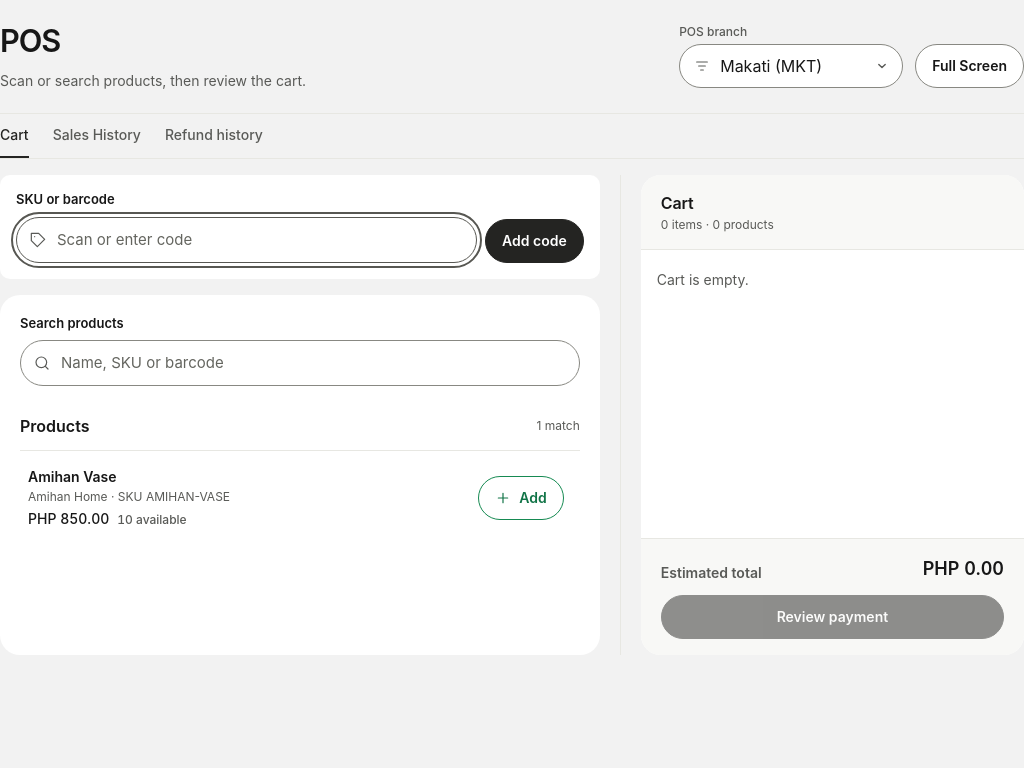
Test: Persistent route-backed POS workspace › locks History during a pending checkout and retains the original request
Click the button "Add".
click(521, 498)  # box [478,476,564,520]
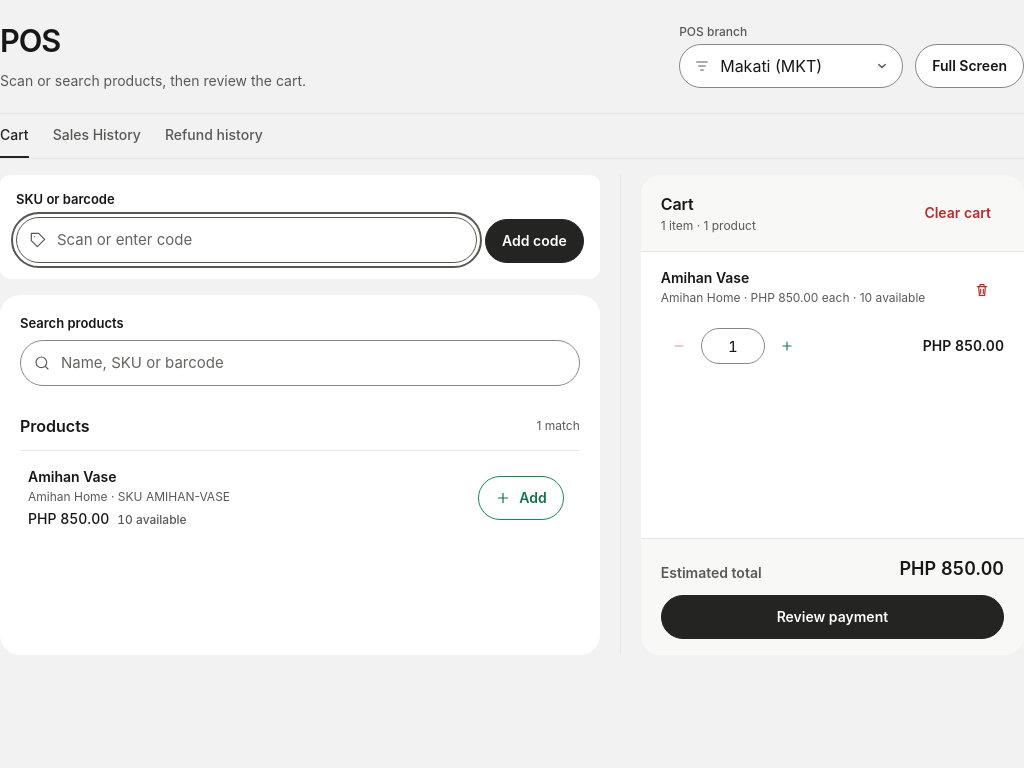
Click the button "Review payment".
click(832, 617)  # box [661,595,1004,639]
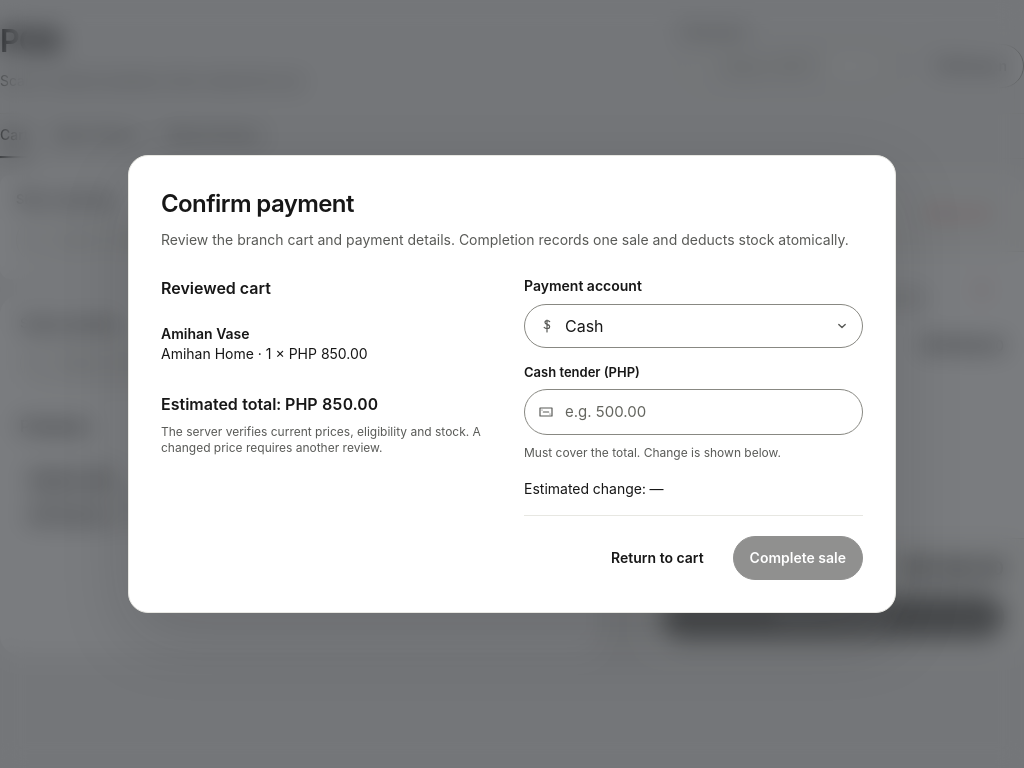
Type "1000.00" into the field labelled "Cash tender (PHP)".
click(694, 412); type("1000.00")  # box [524,389,863,435]
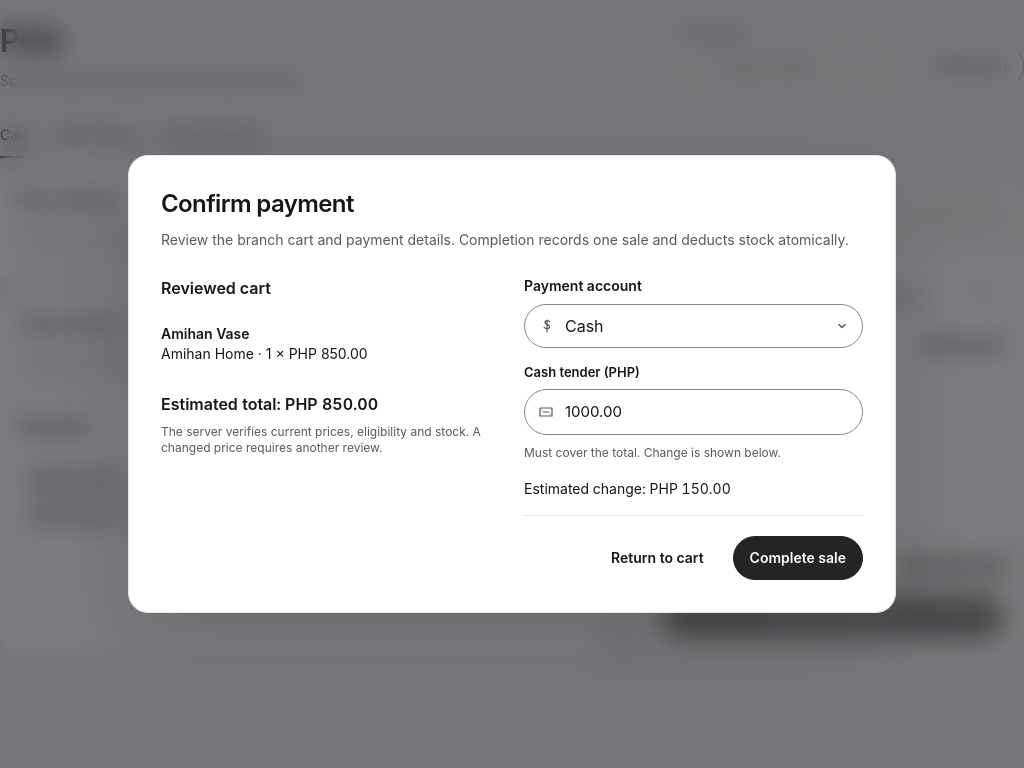
Click the button "Complete sale".
click(798, 558)  # box [733,536,863,580]
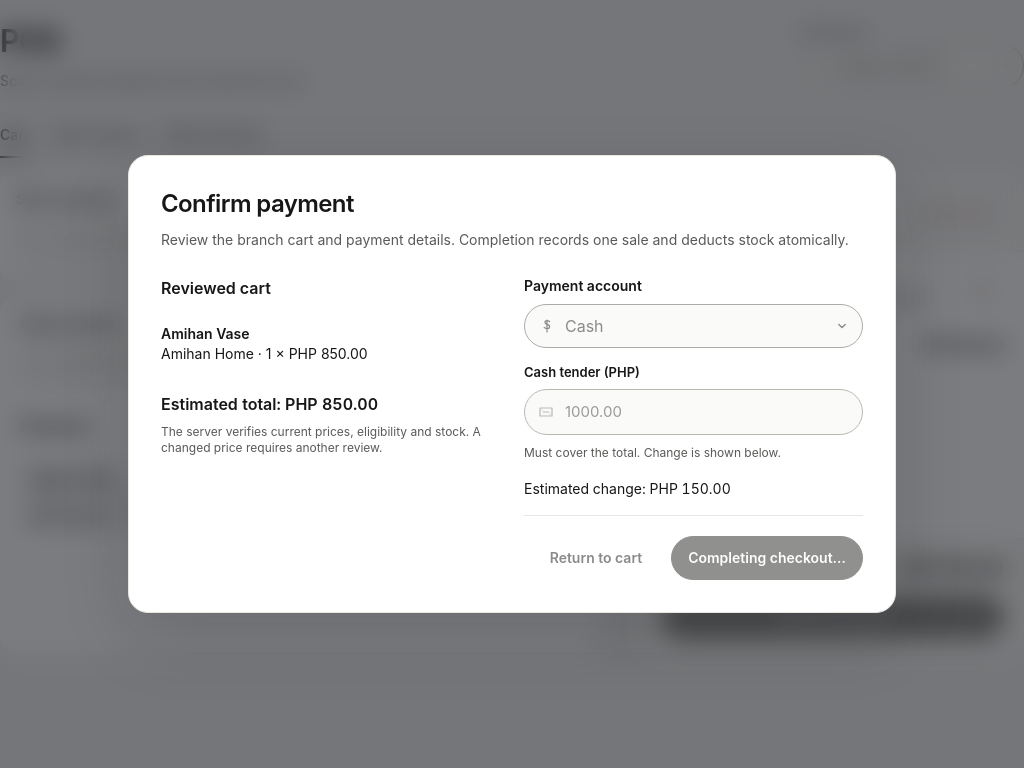
Now the button "Completing checkout…" is shown, box [671,536,863,580]
